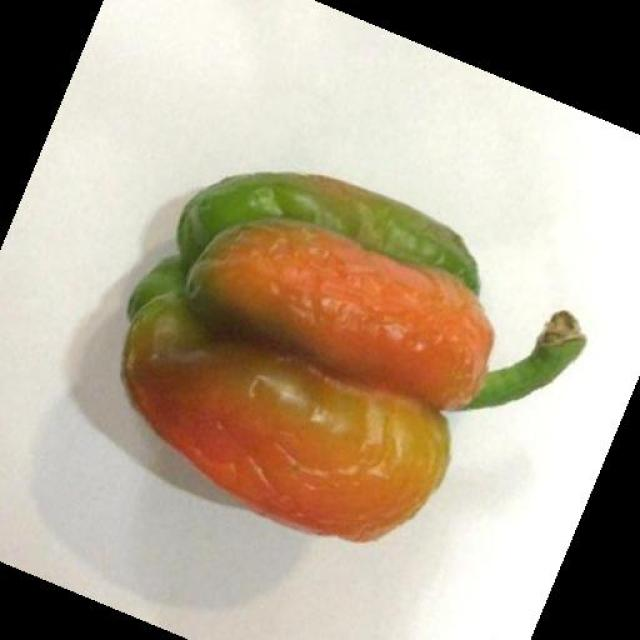Stale_Capsicum: (146, 163, 564, 516)
